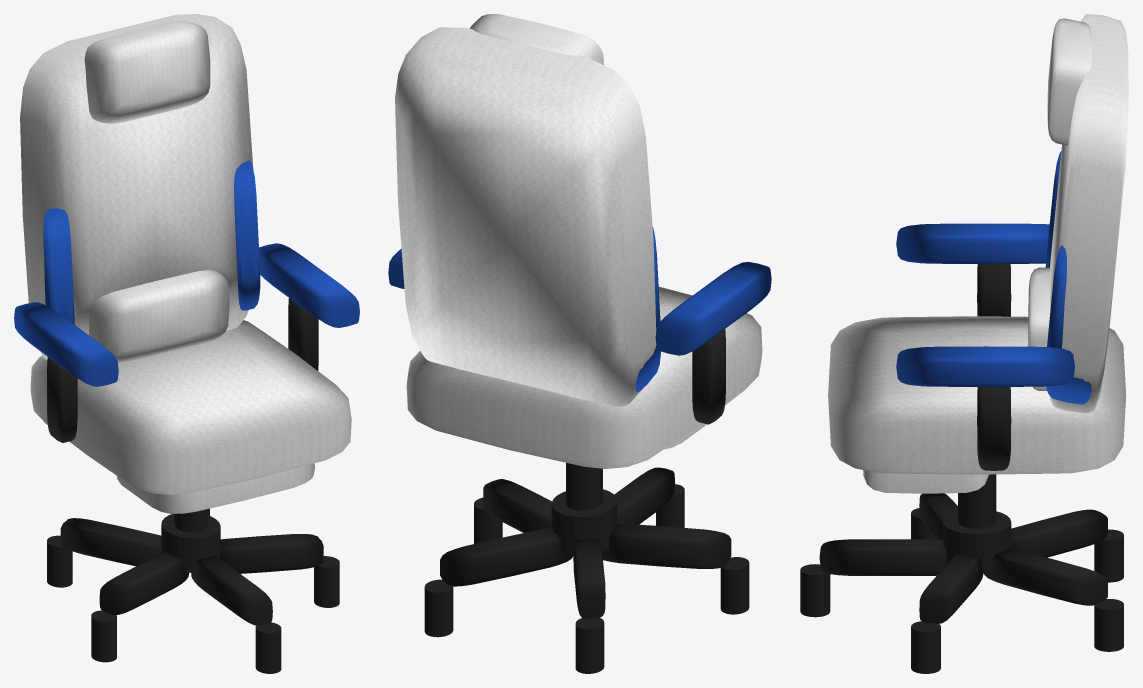
3 views of the same model, side by side, from view 1: azimuth 30°, elevation 25°; view 2: azimuth 150°, elevation 25°; view 3: azimuth 270°, elevation 25° (orthographic). The views are drawn at different scales.
Parts seen in each view (by area): view 1: 3 backrest, 1 seat, 4 headrest, 5 lumbar_pillow, 8 armrest_left_pad, 9 armrest_right_pad, 15 base_spoke_2, 2 footrest, 17 base_spoke_4, 7 backrest_blue_accent_right, 18 base_spoke_5, 14 base_spoke_1 (+9 smaller); view 2: 3 backrest, 1 seat, 8 armrest_left_pad, 18 base_spoke_5, 16 base_spoke_3, 4 headrest, 10 armrest_left_support, 13 base_hub, 15 base_spoke_2, 14 base_spoke_1, 17 base_spoke_4, 22 wheel_4 (+6 smaller); view 3: 1 seat, 3 backrest, 9 armrest_right_pad, 8 armrest_left_pad, 14 base_spoke_1, 16 base_spoke_3, 4 headrest, 17 base_spoke_4, 11 armrest_right_support, 15 base_spoke_2, 13 base_hub, 2 footrest (+10 smaller).
Boxes of the visible parts, x1,y1,x2,y2 form: 3 backrest: (20, 14, 253, 359); 1 seat: (30, 320, 351, 494); 4 headrest: (84, 21, 210, 123); 5 lumbar_pillow: (89, 270, 229, 364); 8 armrest_left_pad: (14, 302, 118, 386); 9 armrest_right_pad: (259, 243, 359, 327); 15 base_spoke_2: (220, 534, 323, 573); 2 footrest: (117, 463, 314, 513); 17 base_spoke_4: (60, 518, 161, 566); 7 backrest_blue_accent_right: (234, 160, 260, 310); 18 base_spoke_5: (99, 552, 188, 614); 14 base_spoke_1: (191, 556, 272, 625); 3 backrest: (395, 27, 656, 406); 1 seat: (406, 286, 762, 468); 8 armrest_left_pad: (655, 262, 771, 355); 18 base_spoke_5: (602, 524, 731, 568); 16 base_spoke_3: (440, 528, 573, 586); 4 headrest: (469, 14, 604, 64); 10 armrest_left_support: (692, 329, 725, 424); 13 base_hub: (551, 489, 617, 554); 15 base_spoke_2: (483, 479, 552, 532); 14 base_spoke_1: (614, 467, 675, 524); 17 base_spoke_4: (573, 538, 605, 618); 22 wheel_4: (575, 617, 604, 673); 1 seat: (828, 316, 1126, 474); 3 backrest: (1049, 14, 1128, 412); 9 armrest_right_pad: (896, 346, 1074, 386); 8 armrest_left_pad: (896, 223, 1049, 263); 14 base_spoke_1: (819, 539, 946, 575); 16 base_spoke_3: (983, 548, 1107, 605); 4 headrest: (1047, 18, 1091, 145); 17 base_spoke_4: (1011, 509, 1107, 557); 11 armrest_right_support: (977, 387, 1011, 470); 15 base_spoke_2: (919, 554, 983, 623); 13 base_hub: (943, 511, 1011, 569); 2 footrest: (863, 470, 988, 493).
Size of the model in its own units: 0.52 by 1 by 0.52.
Materials: 4 (2 with a texture image).
